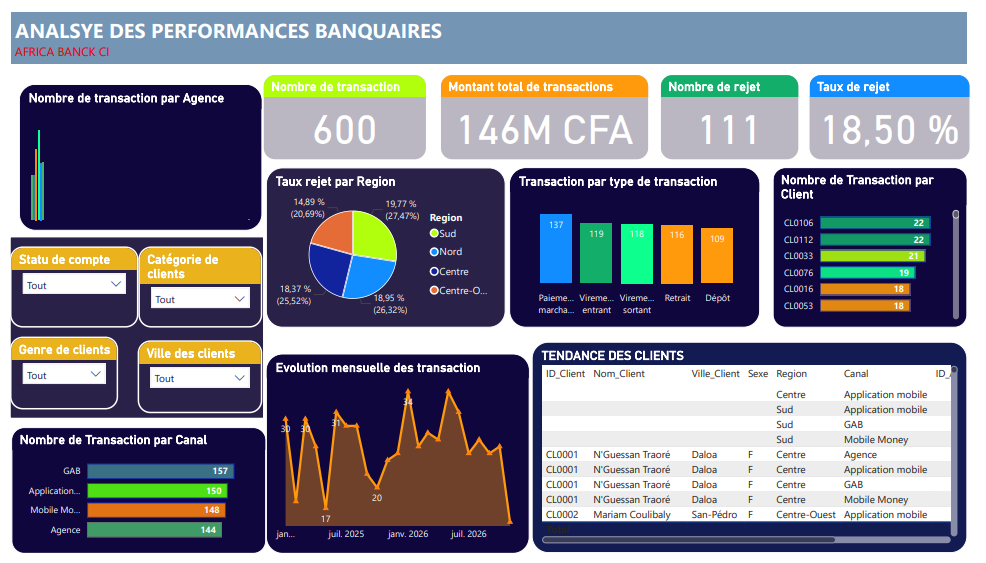

What the dashboard file says about the page in this screenshot:
{"tool":"powerbi","page":{"name":"Page 1","canvas":[1280,720],"ordinal":0},"visuals":[{"type":"clusteredColumnChart","title":"Transaction par type  de transaction","fields":{"Category":["Transactions.Type_Transaction"],"Y":["CountNonNull(Transactions.ID_Transaction)"]},"box":[665.2,206.6,334.3,213.3],"z":0},{"type":"clusteredColumnChart","title":"Nombre de transaction par Agence","fields":{"Category":["Transactions.ID_Agence"],"Y":["CountNonNull(Transactions.ID_Transaction)"]},"box":[11.8,95.7,324.2,194.9],"z":1000},{"type":"stackedAreaChart","title":"Evolution mensuelle des transaction","fields":{"Category":["Transactions.Date_Transaction.Variation.Hiérarchie de dates.Année","Transactions.Date_Transaction.Variation.Hiérarchie de dates.Mois"],"Y":["CountNonNull(Transactions.ID_Transaction)"]},"box":[341,455.2,351.1,265.4],"z":2000},{"type":"clusteredBarChart","title":"Nombre de Transaction par Canal","fields":{"Category":["Transactions.Canal"],"Y":["CountNonNull(Transactions.ID_Transaction)"]},"box":[1.7,552.7,339.3,168],"z":3000},{"type":"clusteredBarChart","title":"Nombre de Transaction par Client","fields":{"Category":["Clients.ID_Client"],"Y":["CountNonNull(Transactions.ID_Transaction)"]},"box":[1016.3,206.6,258.7,213.3],"z":4000},{"type":"card","title":"Nombre de transaction","fields":{"Values":["Transactions.Nombre-Total_Transaction"]},"box":[336,82,220,116],"z":5000},{"type":"card","title":"Taux de rejet","fields":{"Values":["Transactions.Taux rejet"]},"box":[1063.3,82.3,216.7,115.9],"z":6000},{"type":"card","title":"Montant total de transactions","fields":{"Values":["Transactions.Montant_Total"]},"box":[572,82,280,116],"z":7000},{"type":"card","title":"Nombre de rejet","fields":{"Values":["Transactions.Transaction réjetée"]},"box":[865.1,82.3,186.5,115.9],"z":8000},{"type":"shape","box":[0,299,337.6,241.9],"z":9000},{"type":"slicer","title":"Statu de compte ","fields":{"Values":["Comptes.Statut_Compte"]},"box":[0,312.4,171.3,107.5],"z":10000},{"type":"slicer","title":"Catégorie de clients","fields":{"Values":["Clients.Categorie_Socioprofessionnelle"]},"box":[171.3,312.4,164.6,107.5],"z":11000},{"type":"slicer","title":"Genre de clients","fields":{"Values":["Clients.Sexe"]},"box":[0,431.7,144.5,97.4],"z":12000},{"type":"slicer","title":"Ville des clients","fields":{"Values":["Clients.Ville_Client"]},"box":[169.7,436.7,166.3,97.4],"z":13000},{"type":"pieChart","fields":{"Y":["Transactions.Taux rejet"],"Category":["Agences.Region"]},"box":[341,206.6,319.2,213.3],"z":14000},{"type":"tableEx","title":"TENDANCE DES CLIENTS","fields":{"Values":["Clients.ID_Client","Clients.Nom_Client","Clients.Ville_Client","Clients.Sexe","Agences.Region","Transactions.Canal","Transactions.ID_Agence","Sum(Transactions.Montant_FCFA)"]},"box":[695.4,439.5,579.5,280.5],"z":15000},{"type":"textbox","box":[1.7,0,1273.3,68.9],"z":16000}]}

Visuals, with their boxes in screenshot pixels (x1, y1, x2, y2), scaled from the page's 1280x720 canvas onto the 986x563 screenshot:
"Transaction par type  de transaction" clusteredColumnChart: l=512, t=162, r=770, b=328
"Nombre de transaction par Agence" clusteredColumnChart: l=9, t=75, r=259, b=227
"Evolution mensuelle des transaction" stackedAreaChart: l=263, t=356, r=533, b=562
"Nombre de Transaction par Canal" clusteredBarChart: l=1, t=432, r=263, b=562
"Nombre de Transaction par Client" clusteredBarChart: l=783, t=162, r=982, b=328
"Nombre de transaction" card: l=259, t=64, r=428, b=155
"Taux de rejet" card: l=819, t=64, r=985, b=155
"Montant total de transactions" card: l=441, t=64, r=656, b=155
"Nombre de rejet" card: l=666, t=64, r=810, b=155
shape: l=0, t=234, r=260, b=423
"Statu de compte " slicer: l=0, t=244, r=132, b=328
"Catégorie de clients" slicer: l=132, t=244, r=259, b=328
"Genre de clients" slicer: l=0, t=338, r=111, b=414
"Ville des clients" slicer: l=131, t=341, r=259, b=418
pieChart - Transactions.Taux rejet x Agences.Region: l=263, t=162, r=509, b=328
"TENDANCE DES CLIENTS" tableEx: l=536, t=344, r=982, b=562
textbox: l=1, t=0, r=982, b=54
